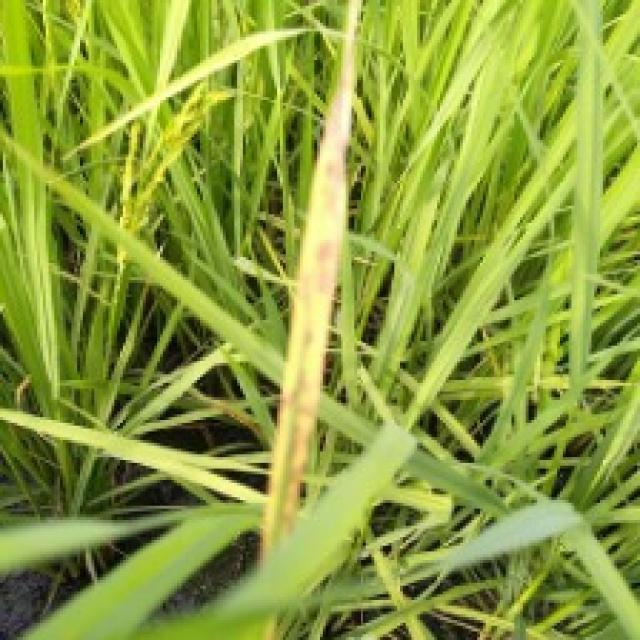Rice___Brown_Spot: (258, 0, 359, 562)
